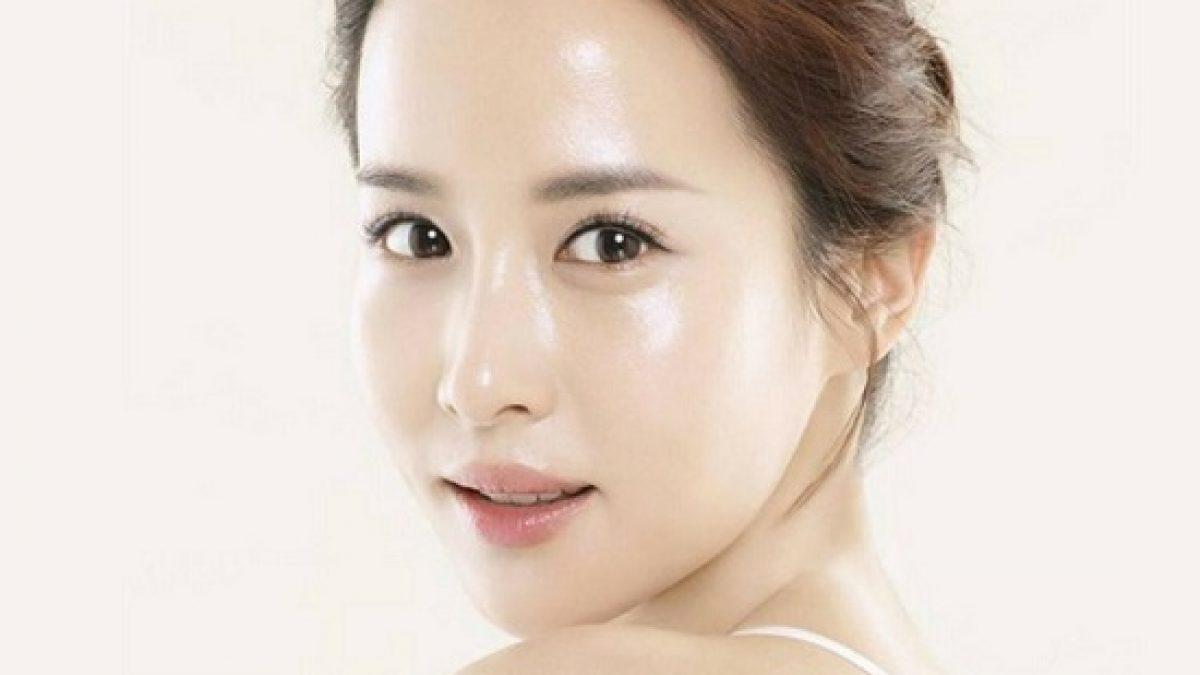Oily-Skin: (509, 246, 561, 360), (616, 292, 682, 358), (577, 87, 626, 170), (560, 32, 618, 85), (446, 283, 466, 374), (477, 369, 496, 392)
